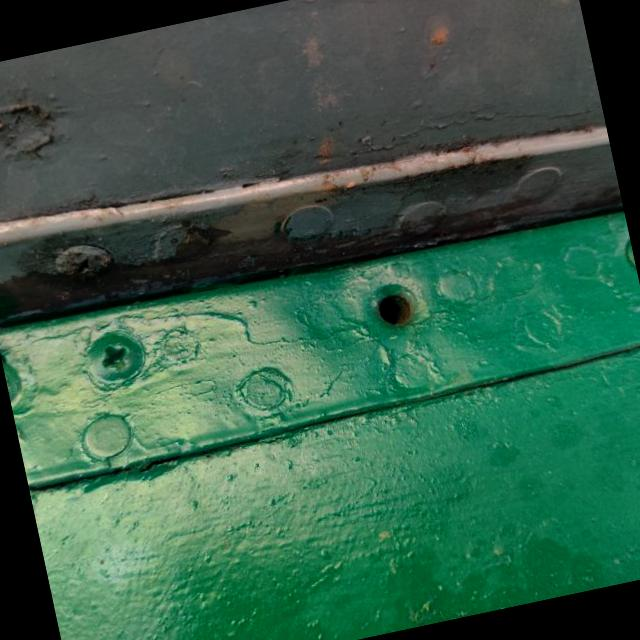Missing Fastener: (357, 270, 432, 338)
